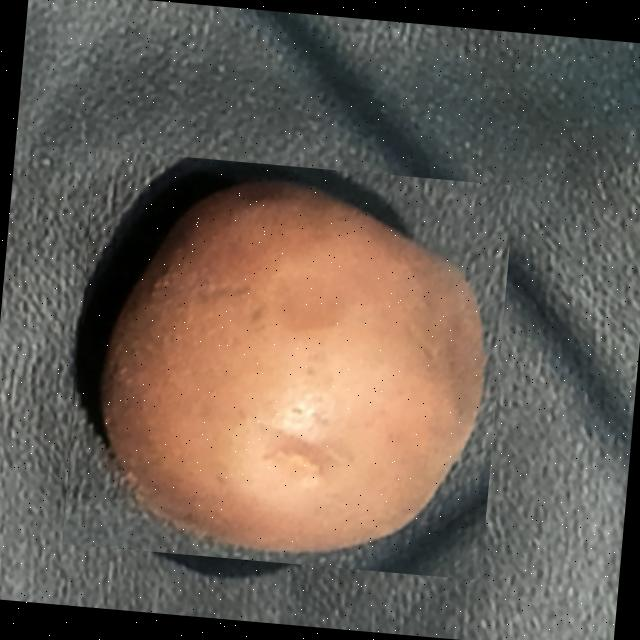Diseased-fungal potato: (61, 148, 514, 579)
